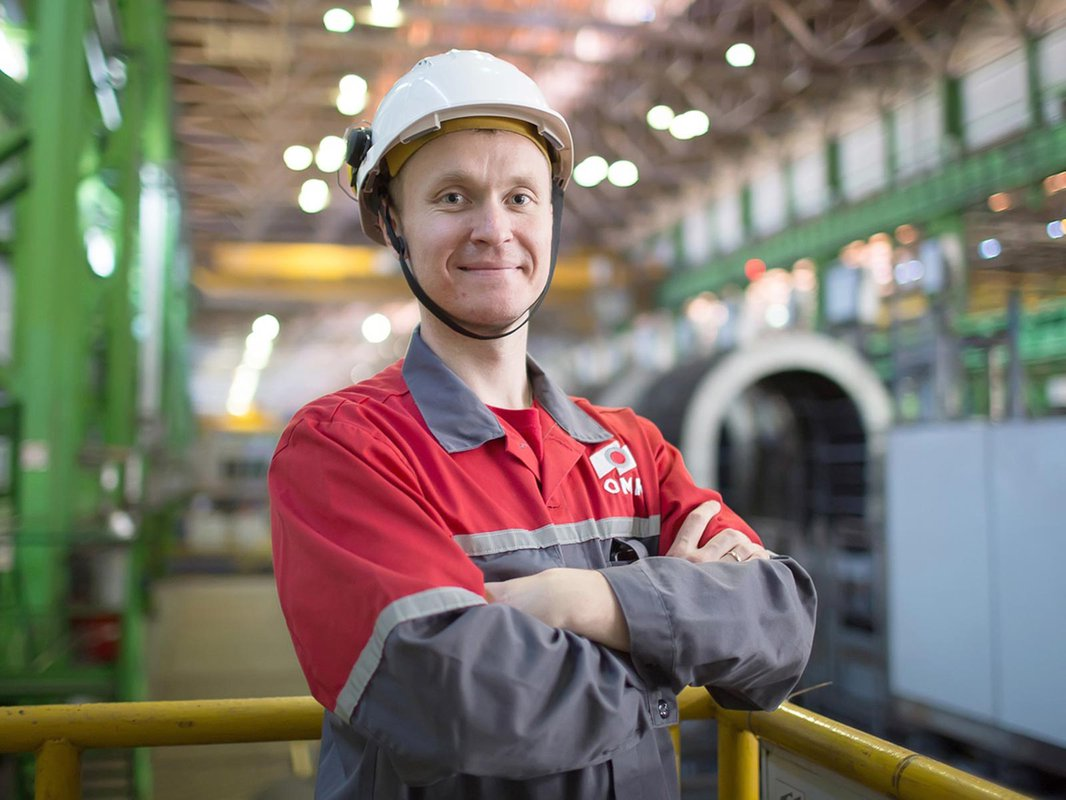person: (268, 49, 819, 800)
